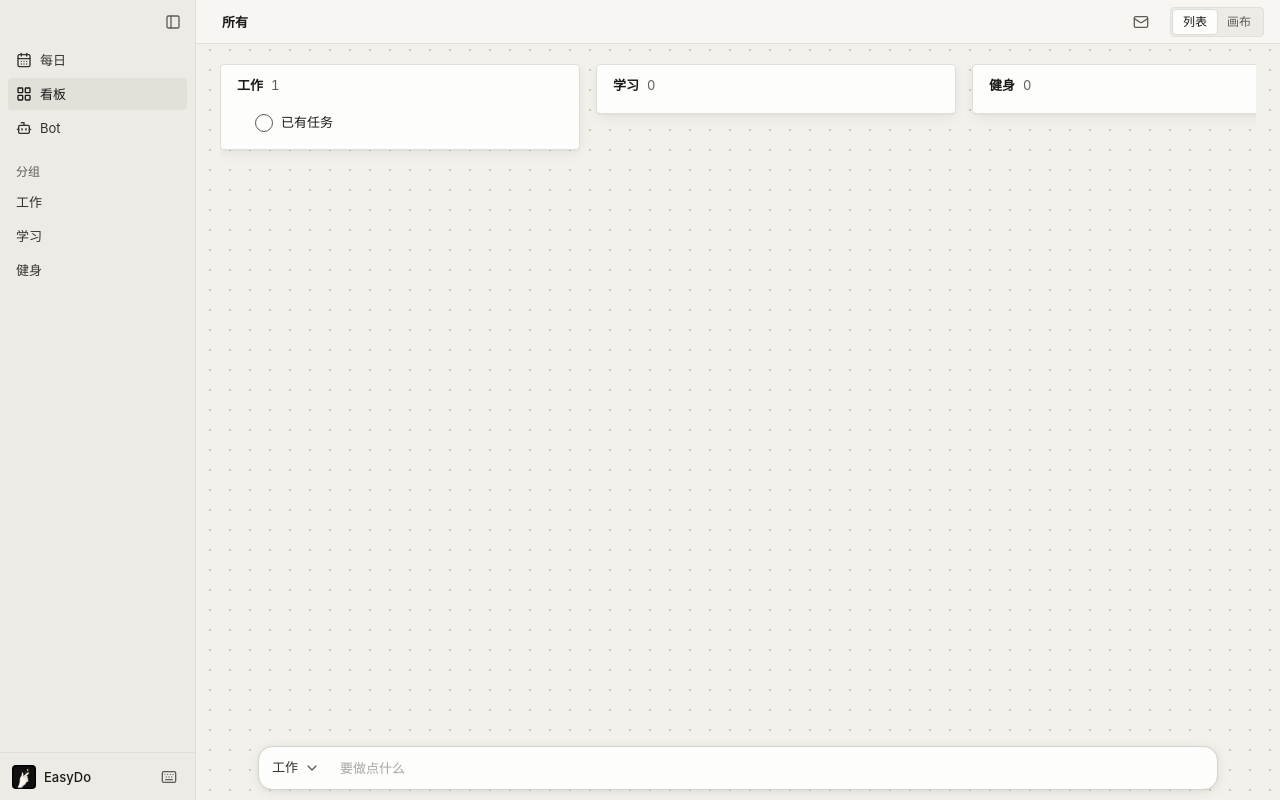
Scenario: BoardPage › toggles high priority from the todo context menu
The image size is (1280, 800).
Expected: the text "已有任务" is shown, x1=281 y1=114 x2=333 y2=130
Right-click the button "已有任务" at (294, 123), box x1=255 y1=114 x2=333 y2=132
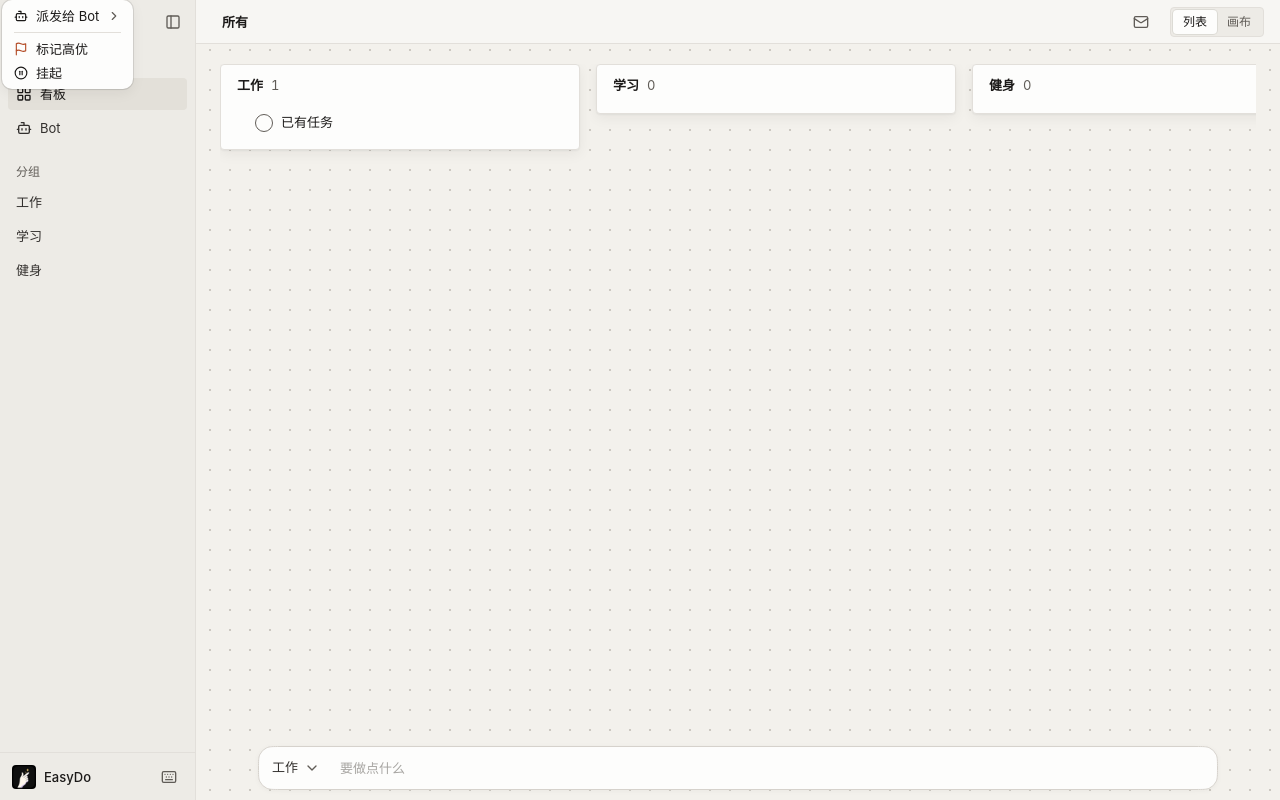
Click the menu item "标记高优" at (51, 49), box x1=14 y1=41 x2=88 y2=57
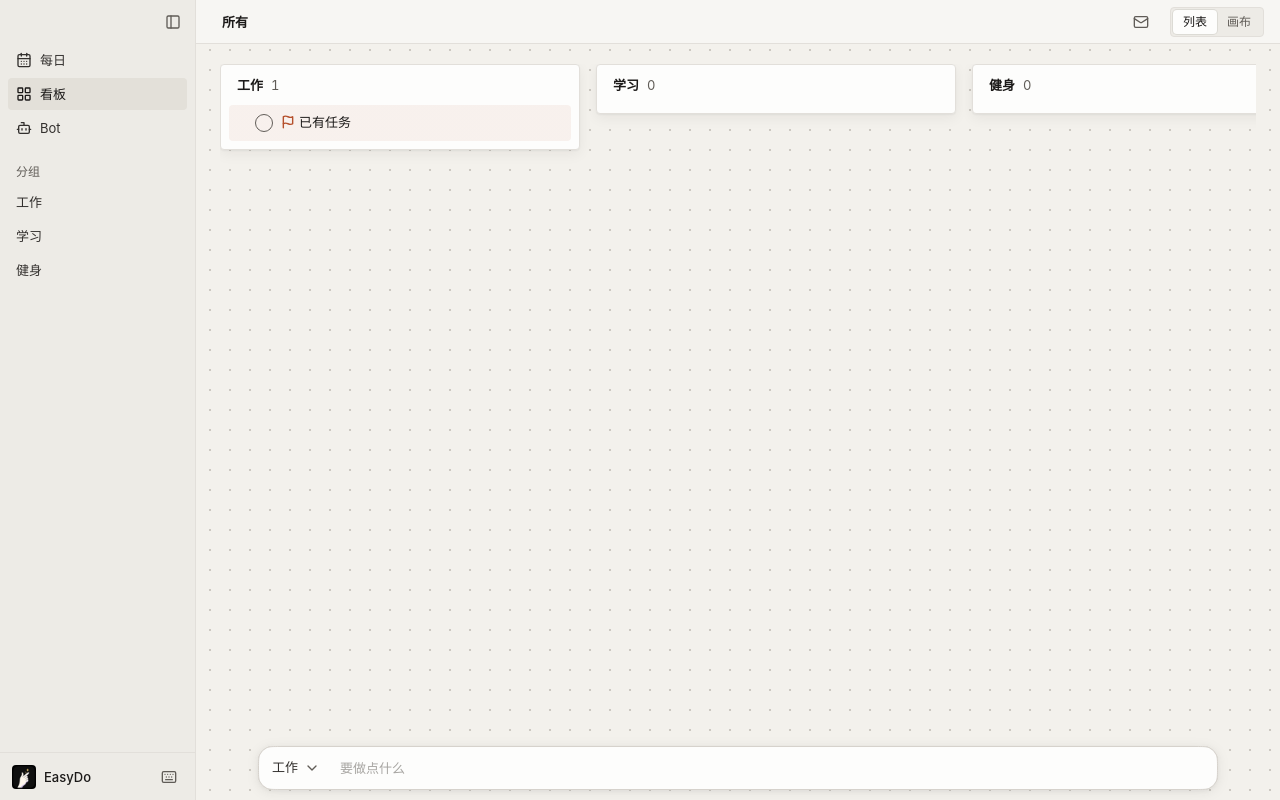
Result: the element titled "高优" is shown at x1=281 y1=115 x2=295 y2=129
Right-click the button "已有任务" at (325, 122), box x1=229 y1=105 x2=571 y2=141
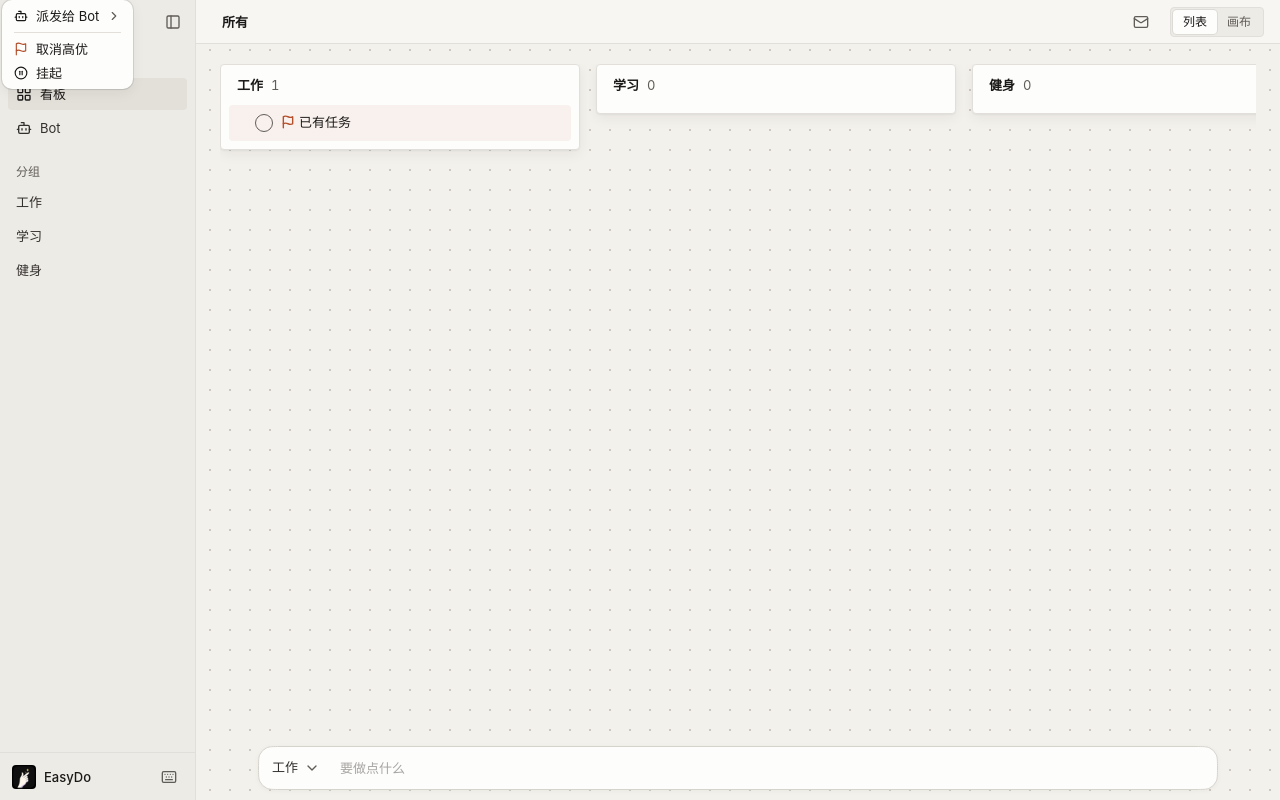
Click the menu item "取消高优" at (51, 49), box x1=14 y1=41 x2=88 y2=57
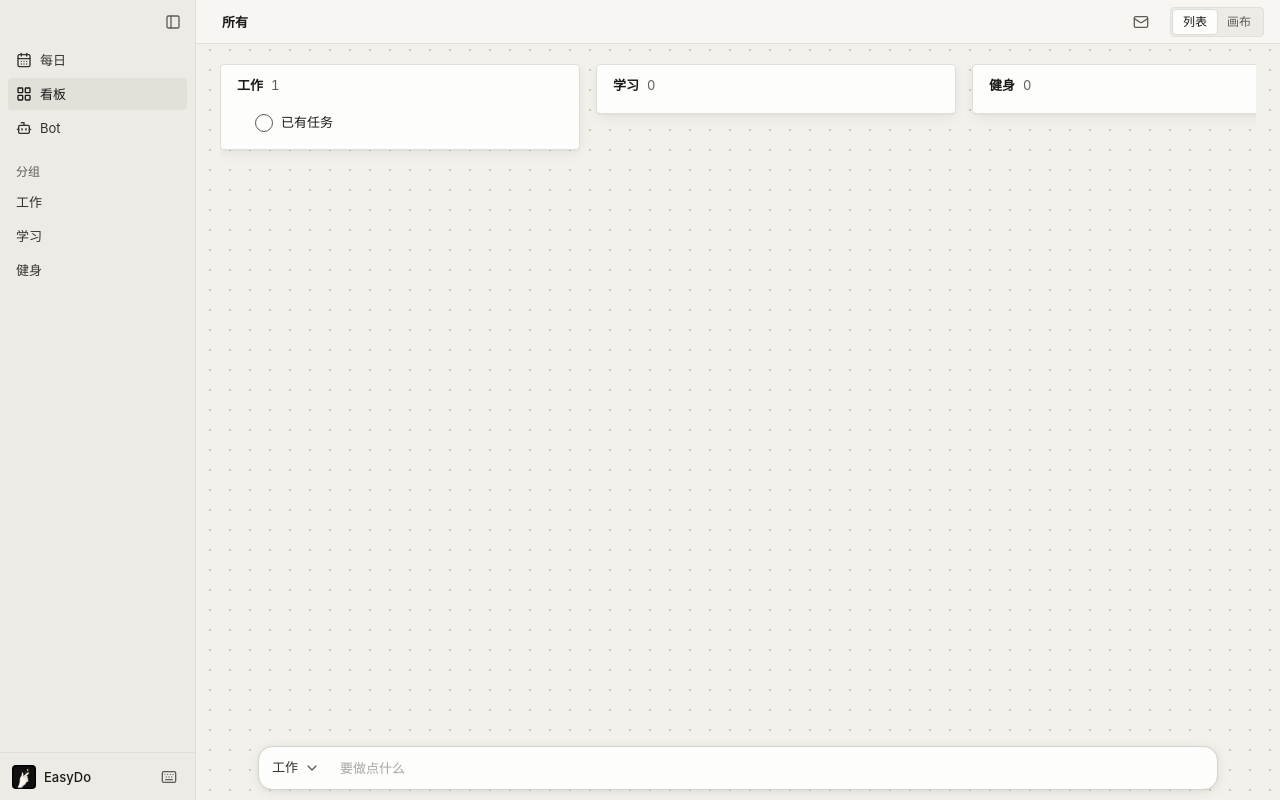
Result: the menu item titled "高优" is gone
